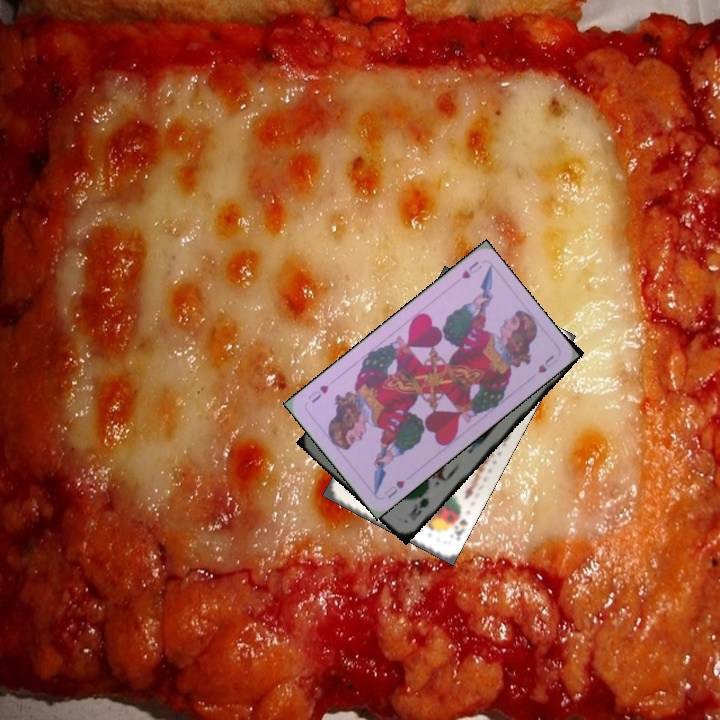GK: (406, 487, 432, 523)
HU: (380, 476, 407, 501), (457, 257, 485, 281)
SK: (448, 505, 470, 543)
